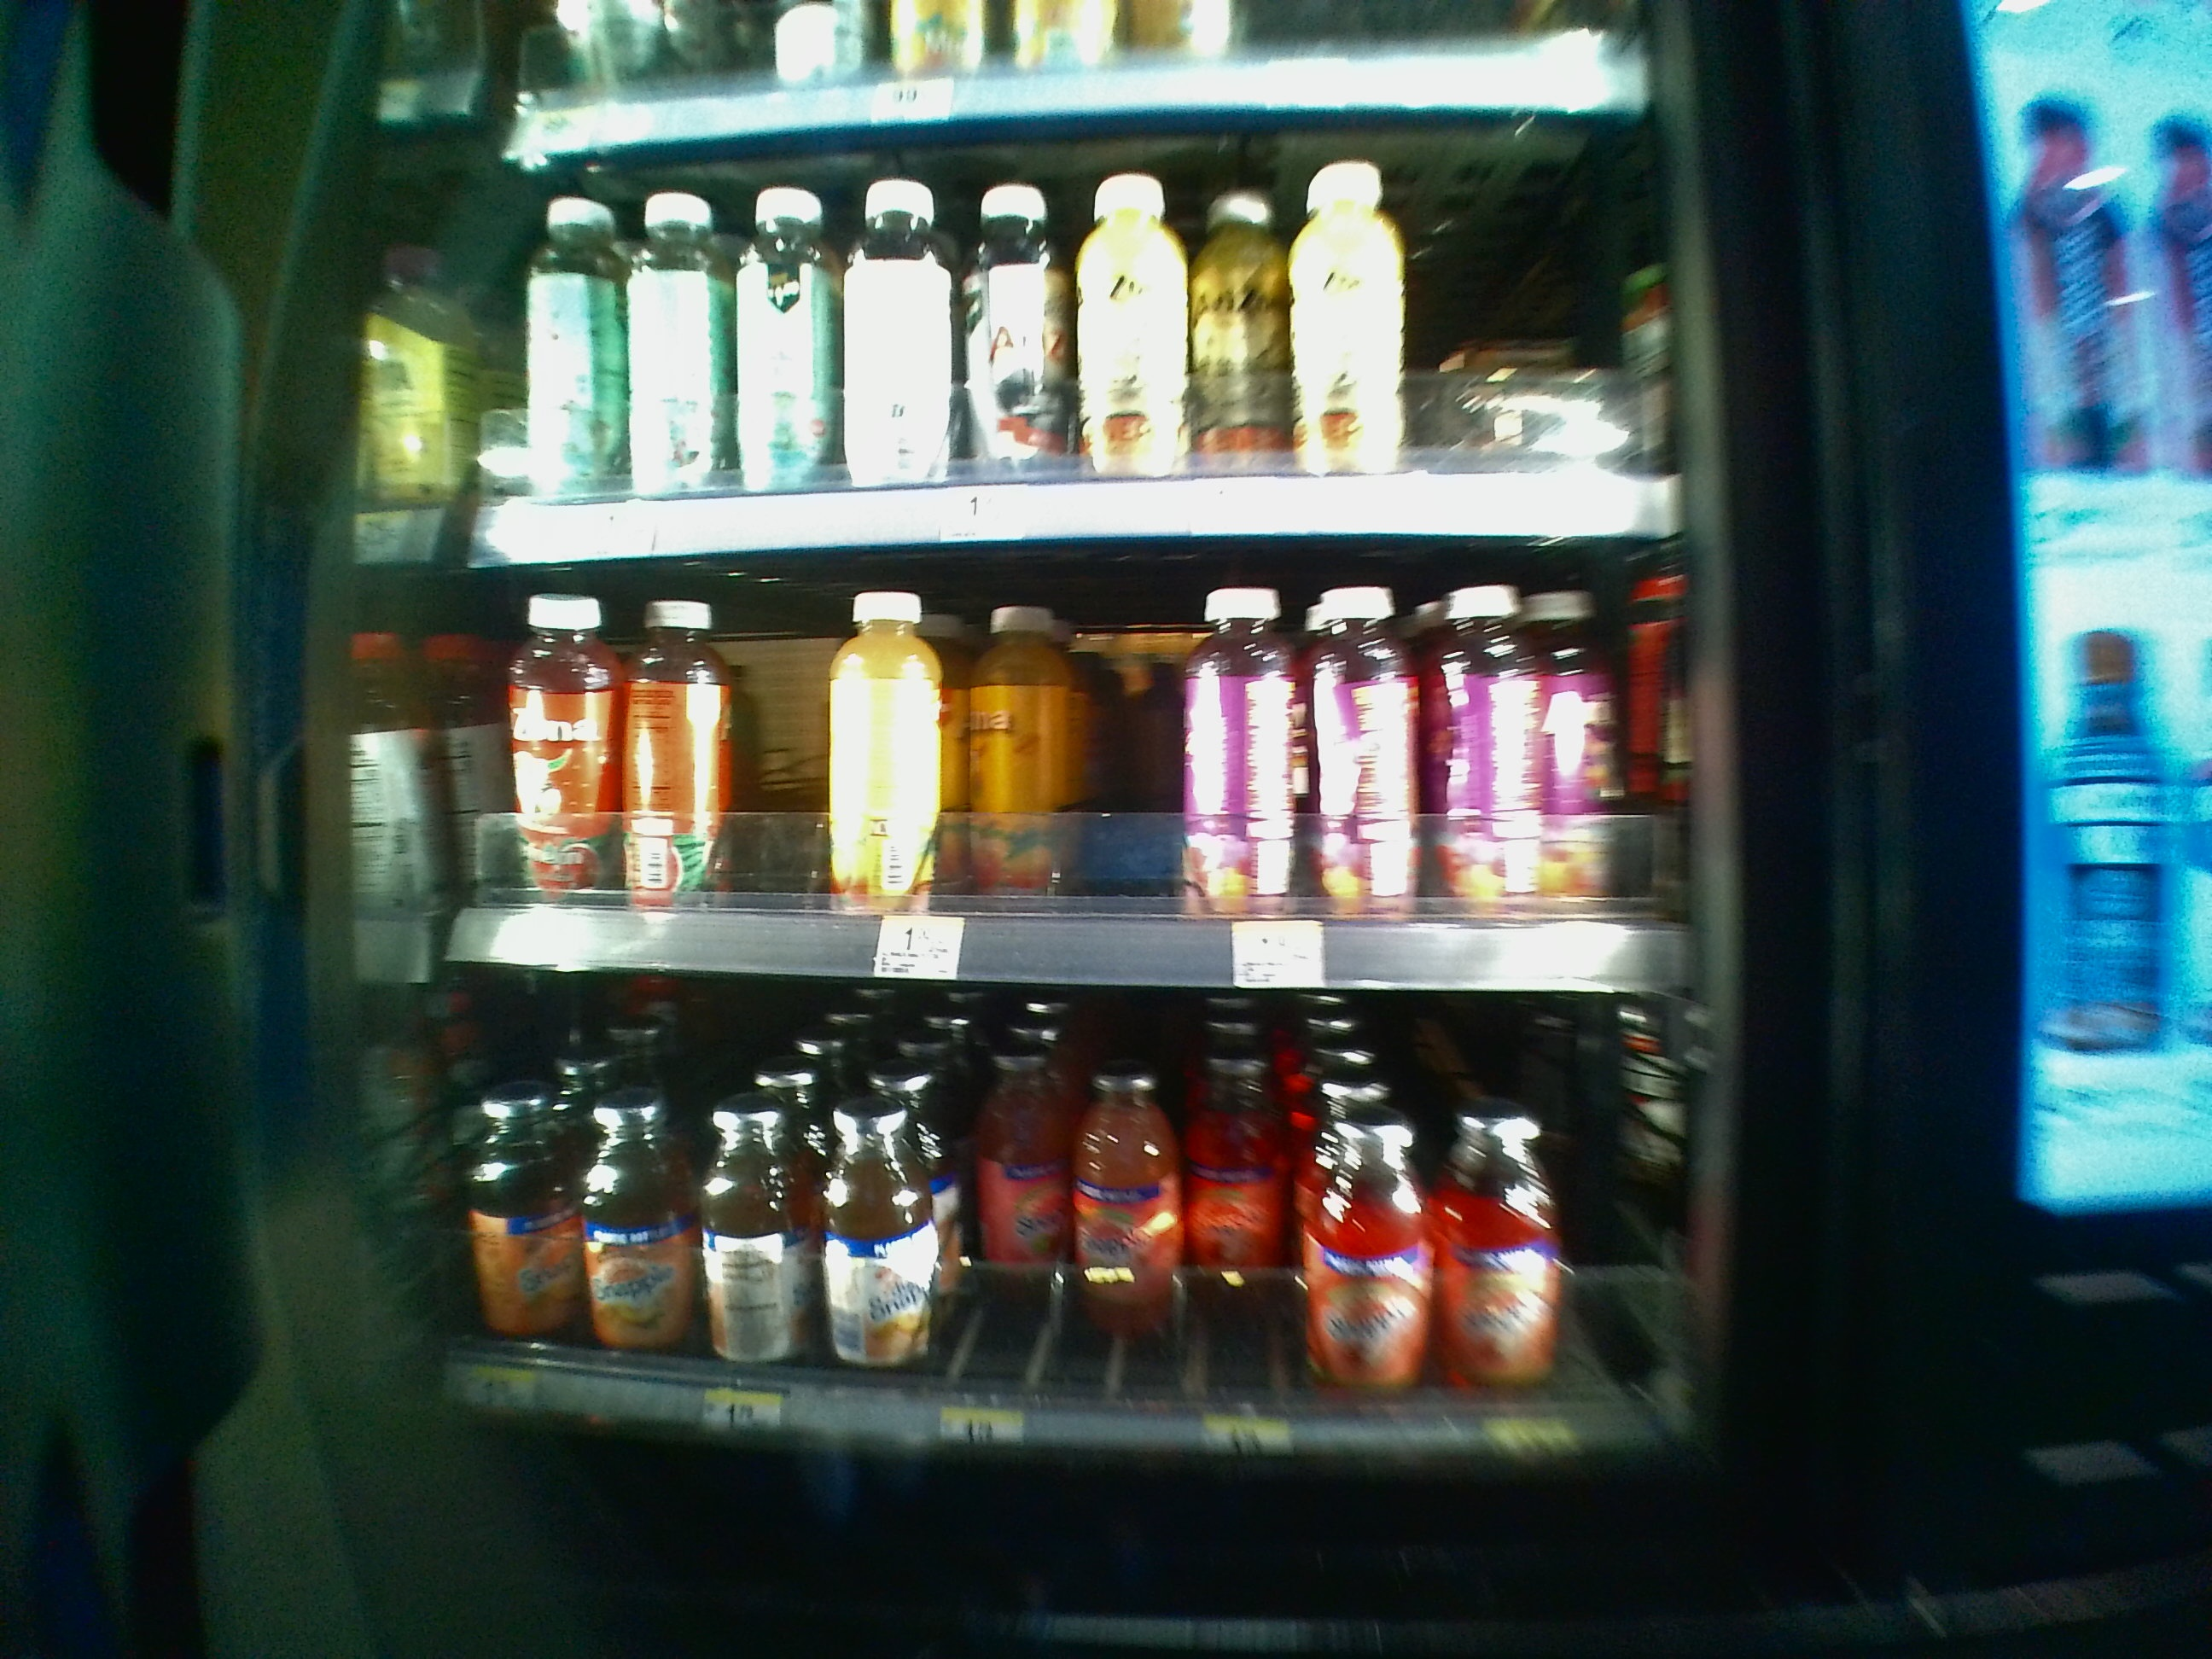shelf: (446, 1000, 1684, 1473), (441, 535, 1695, 988)
